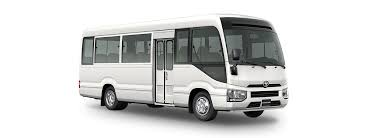bus: (78, 12, 290, 122)
